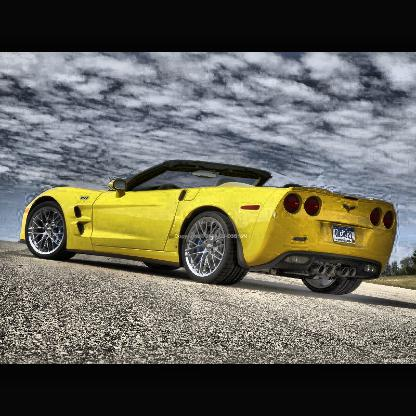Chevrolet Corvette Convertible 2012: (23, 160, 396, 296)
